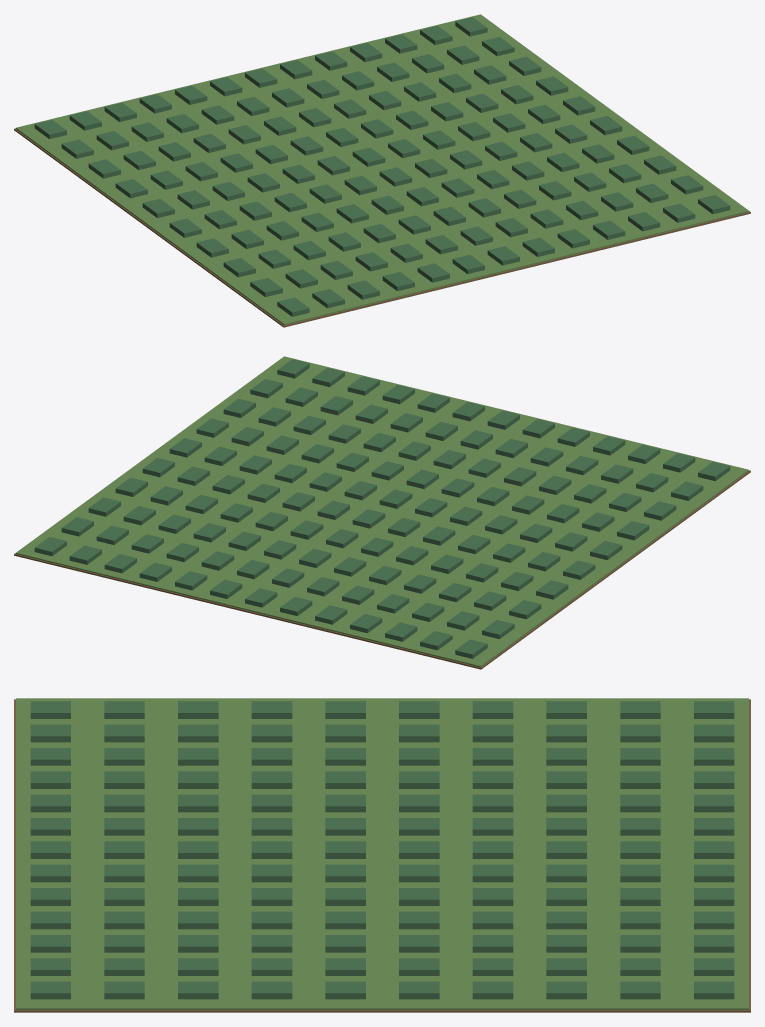
The model's file is cover-crop.glb.
The picture shows the model from 3 angles, top to bottom: view 1: azimuth 30°, elevation 25°; view 2: azimuth 150°, elevation 25°; view 3: azimuth 270°, elevation 25°; orthographic projection. The views are drawn at different scales.
Visible parts, largest first — view 1: cover-crop; view 2: cover-crop; view 3: cover-crop.
Boxes of the visible parts, x1=… form: cover-crop: x1=14, y1=14, x2=750, y2=327; cover-crop: x1=14, y1=356, x2=750, y2=669; cover-crop: x1=14, y1=698, x2=750, y2=1012.
Size of the model in its own units: 40 by 0.58 by 40.
